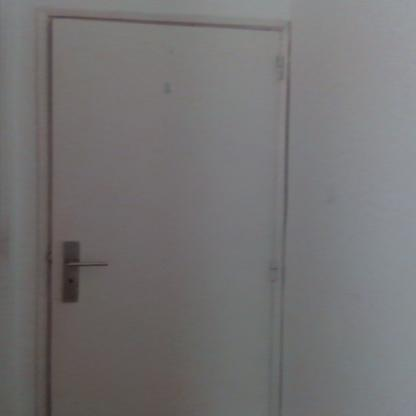door: (48, 15, 272, 416)
hinged: (274, 54, 286, 82), (270, 256, 280, 282)
lever: (67, 258, 111, 269)
